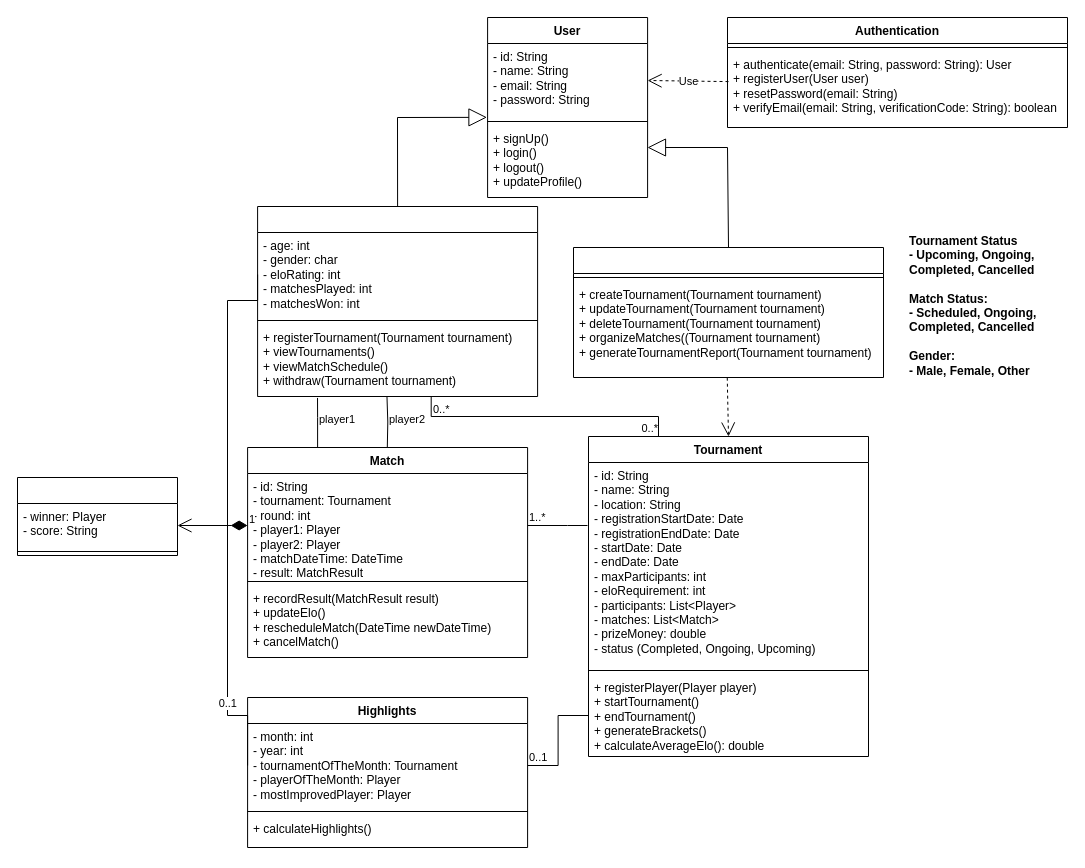
Some shapes in this 1085 by 868 pixel diagram are drawn without their labels. The shapes that lost their labels are listed below. From the top down, each one's box as (x1, y1, x2, y2) in pixels, then its label:
(257, 206, 538, 396): Player
(572, 246, 884, 378): Admin
(16, 476, 178, 556): MatchResult
